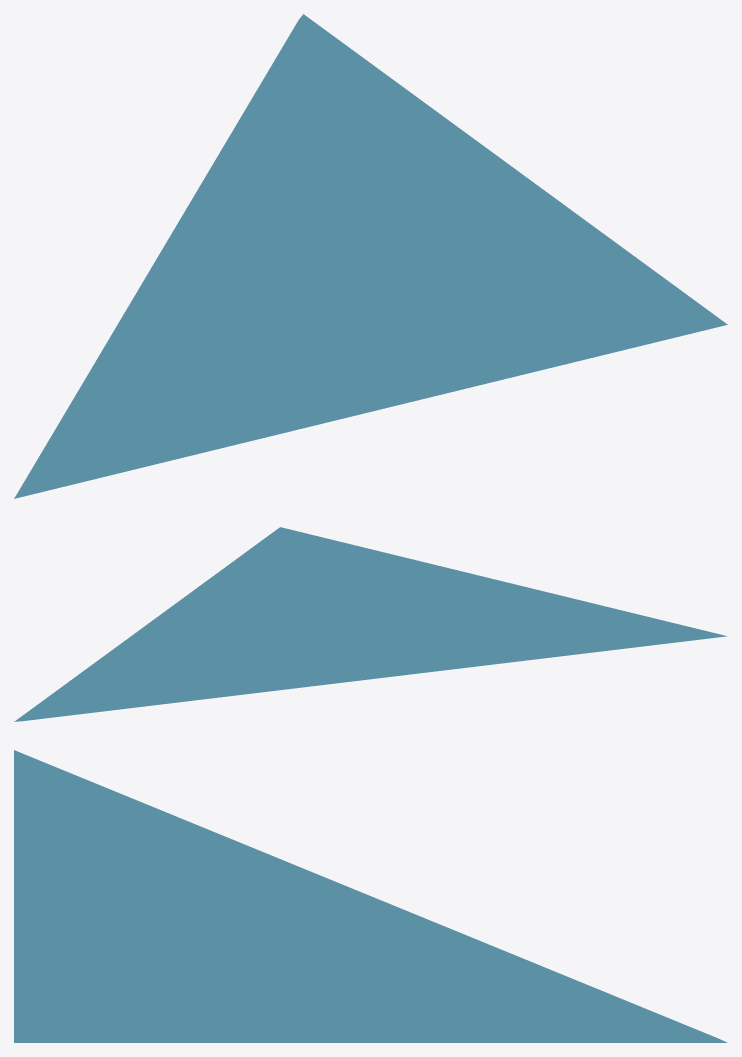
Rendered from nature_10_0.glb.
The picture shows the model from 3 angles, top to bottom: view 1: azimuth 30°, elevation 25°; view 2: azimuth 150°, elevation 25°; view 3: azimuth 270°, elevation 25°; orthographic projection. The views are drawn at different scales.
Visible parts, largest first — view 1: water; view 2: water; view 3: water.
Part boxes in pixels (x1,y1,x2,y2): water: [14, 14, 727, 498]; water: [14, 527, 726, 721]; water: [14, 750, 727, 1042].
Size of the model in its own units: 32.47 by 0 by 33.44.
